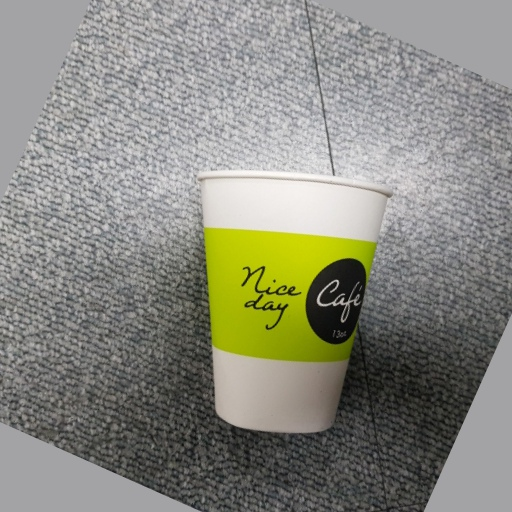Paper_1: (194, 168, 391, 435)
